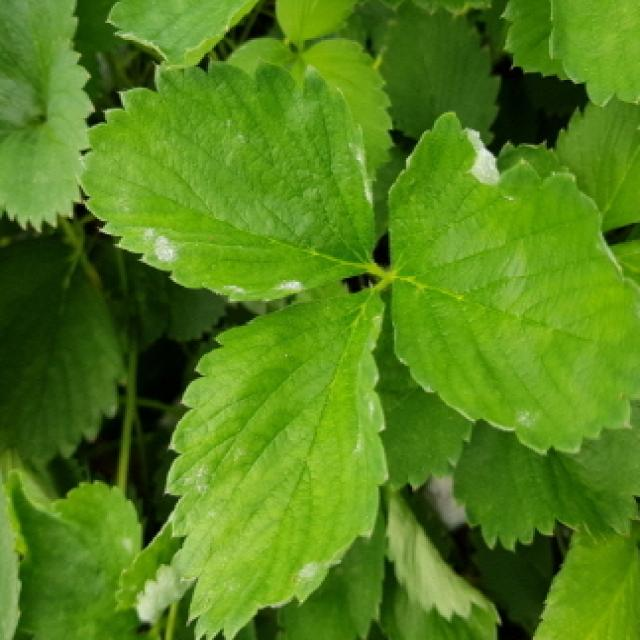Powdery Mildew Leaf: (386, 109, 640, 457), (163, 289, 390, 640), (72, 56, 380, 304), (4, 468, 145, 640)
